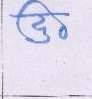o_matra: (16, 1, 29, 40)
